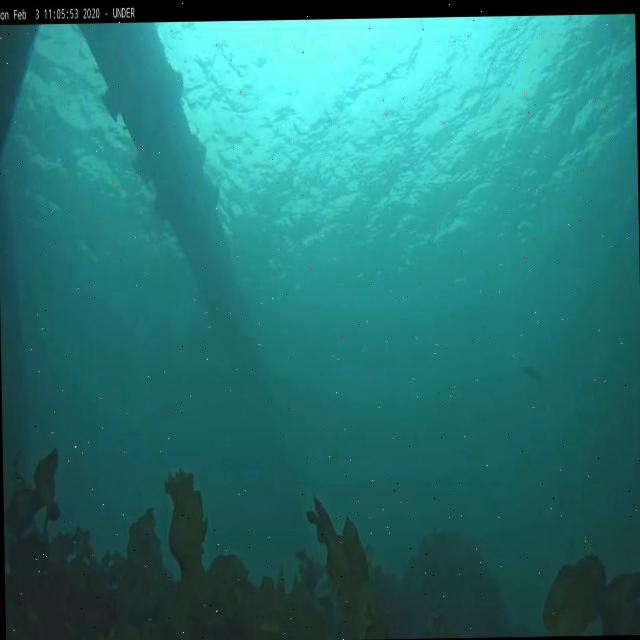fish: (522, 364, 545, 386)
